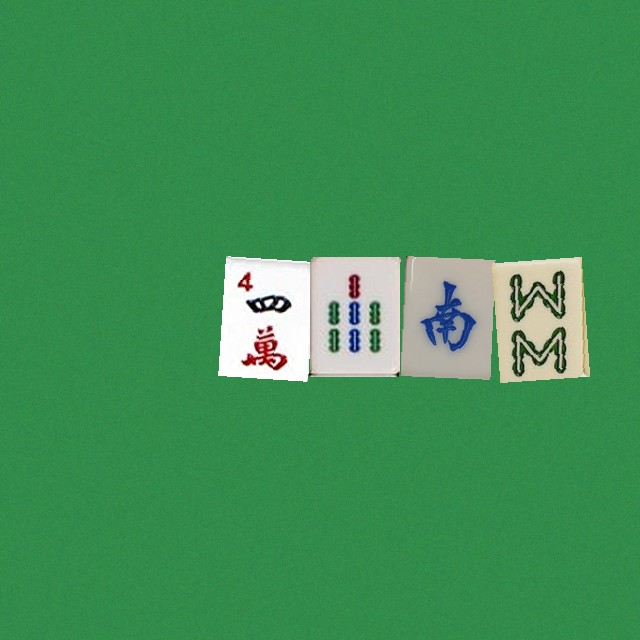tile: (218, 256, 308, 376), (309, 256, 399, 376), (400, 256, 490, 376), (491, 256, 581, 376)
